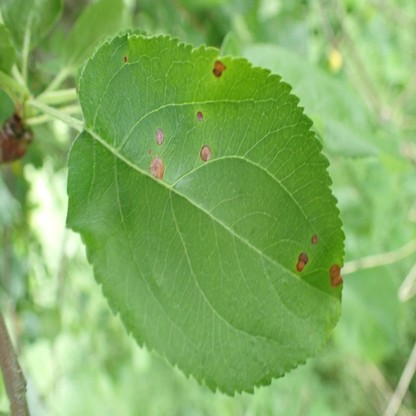frogeye_leaf_spot: (149, 158, 164, 180), (329, 265, 343, 287), (213, 60, 226, 78), (297, 254, 308, 271), (155, 130, 165, 145), (201, 146, 210, 162), (197, 111, 203, 122), (312, 235, 318, 245)
